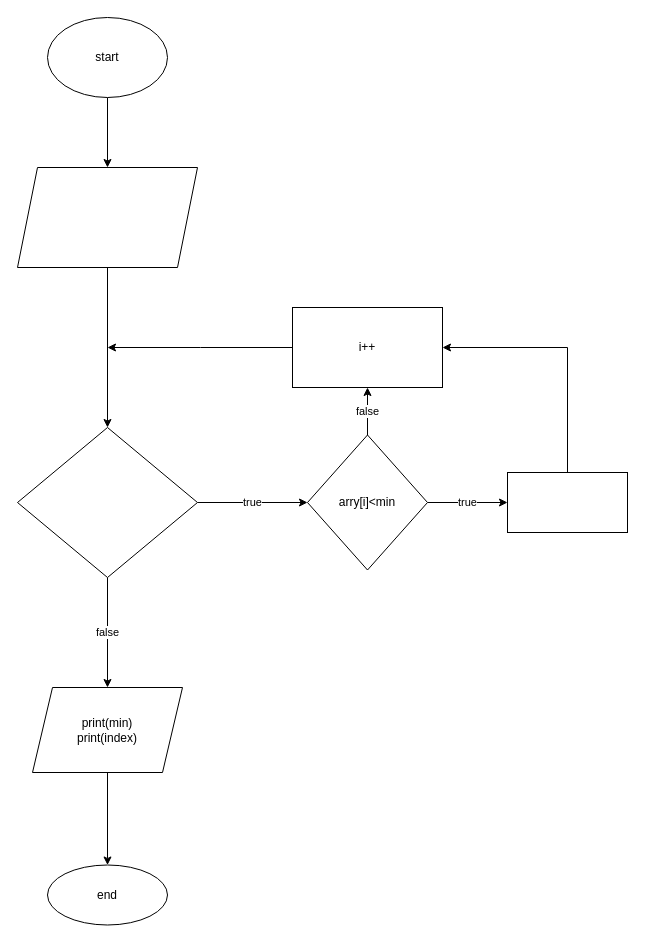
The diagram is 645 pixels wide and 943 high, and some of its shapes have lost their labels. Here are the shapes that lost their labels. From the top down, the centre of each, then its label:
At point (107, 217): "let n, i , arry[i], index".
At point (107, 502): "i<n".
At point (567, 502): "min=arry[i] i=index".
